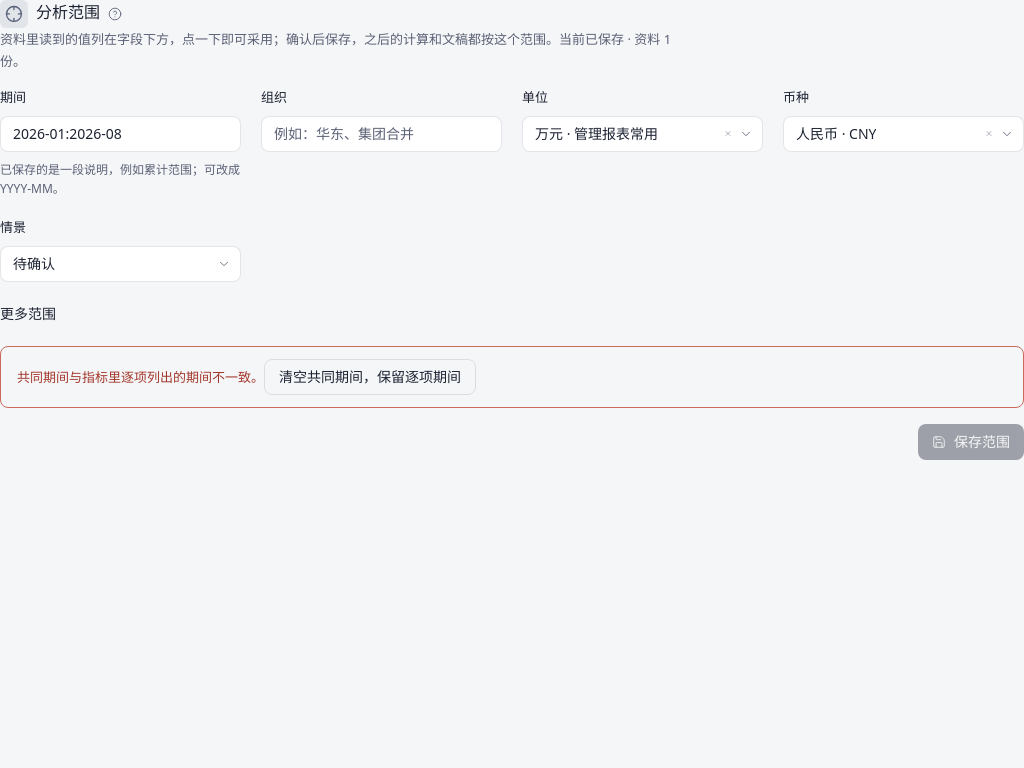
Test: business result components › resolves a legacy shared-period conflict explicitly while preserving item periods and bindings
Expected: the field showing "2026-01:2026-08" is shown, [0,116,241,152]
Click the button with aria-label "分析范围单位". click: (642, 134)
box: [522,116,763,152]
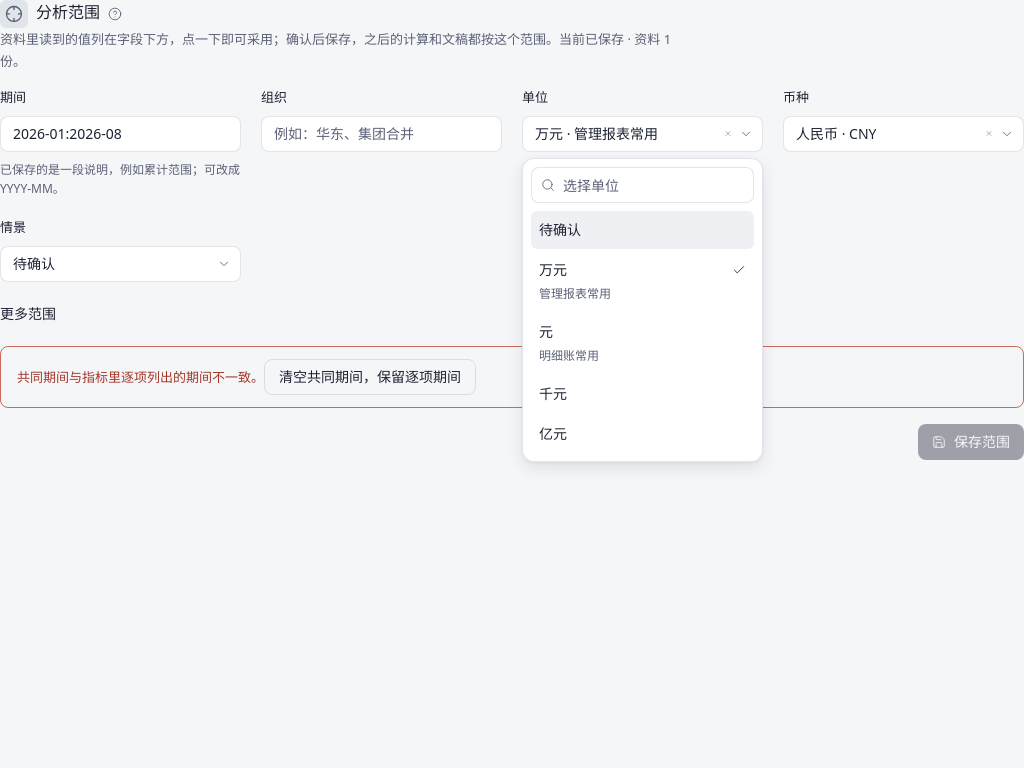
Click the option "元 明细账常用". click: (569, 356)
box: [539,322,599,364]
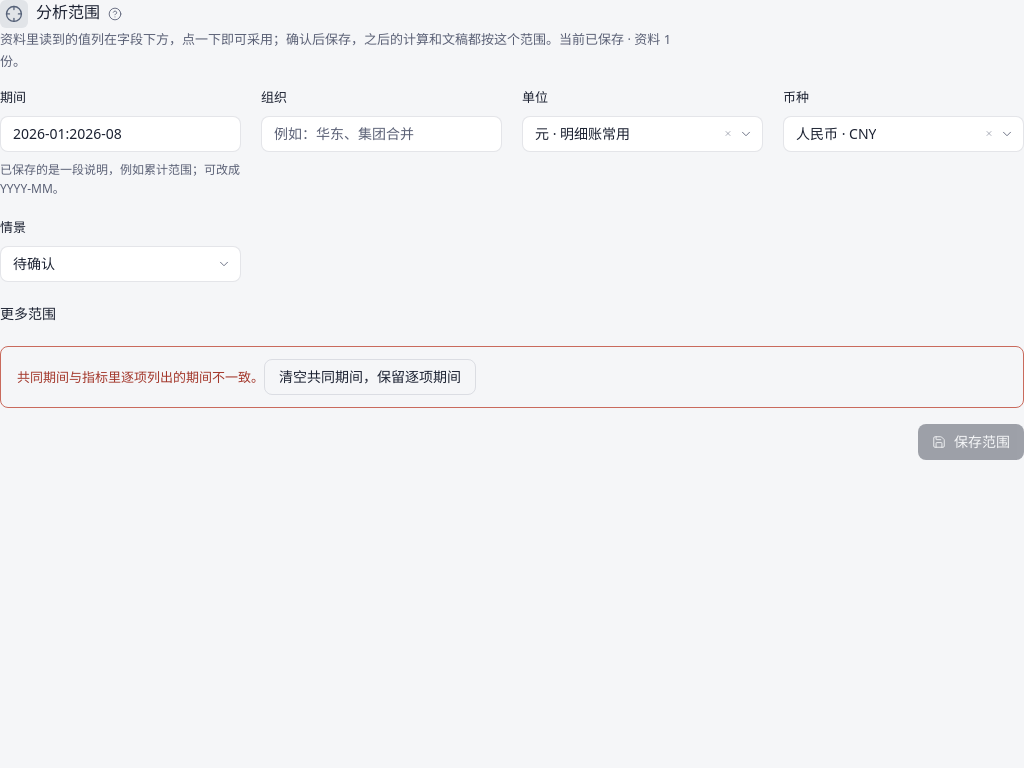
Expected: the button "保存范围" is disabled, [918,424,1023,460]
Expected: the message shows "逐项期间", [0,346,1023,408]
Click the button "清空共同期间，保留逐项期间". click: (370, 377)
box: [264,359,476,395]
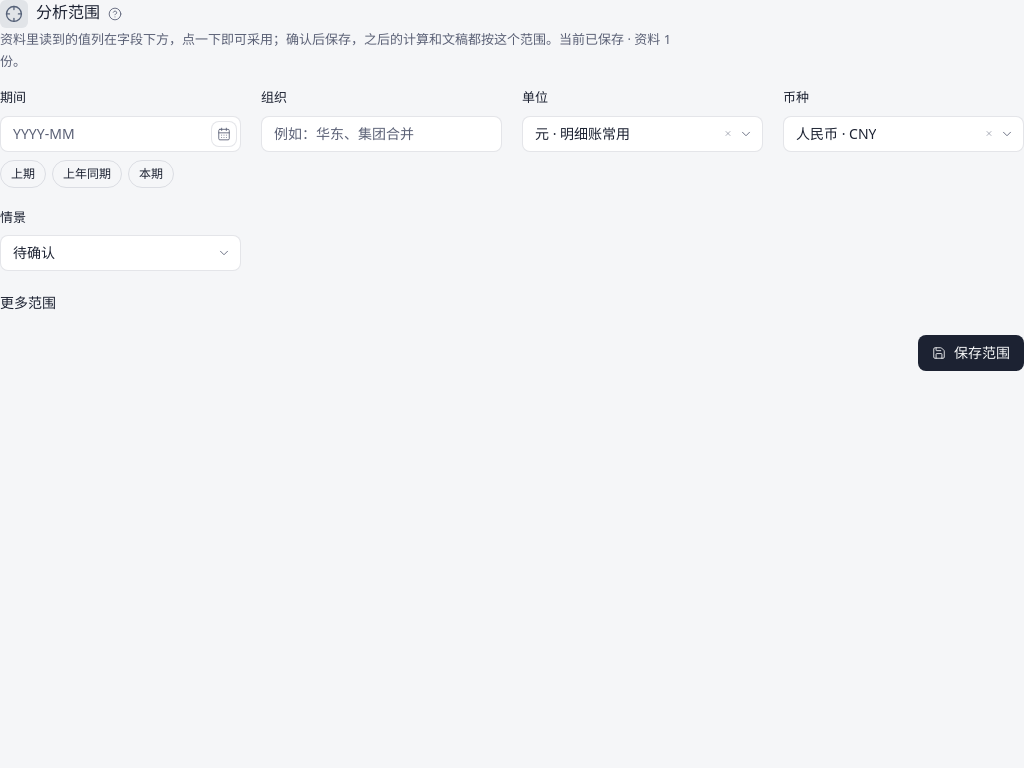
Expected: the field named "分析范围期间" is empty, [0,116,241,152]
Click the button "保存范围". click: (971, 353)
box: [918,335,1023,371]
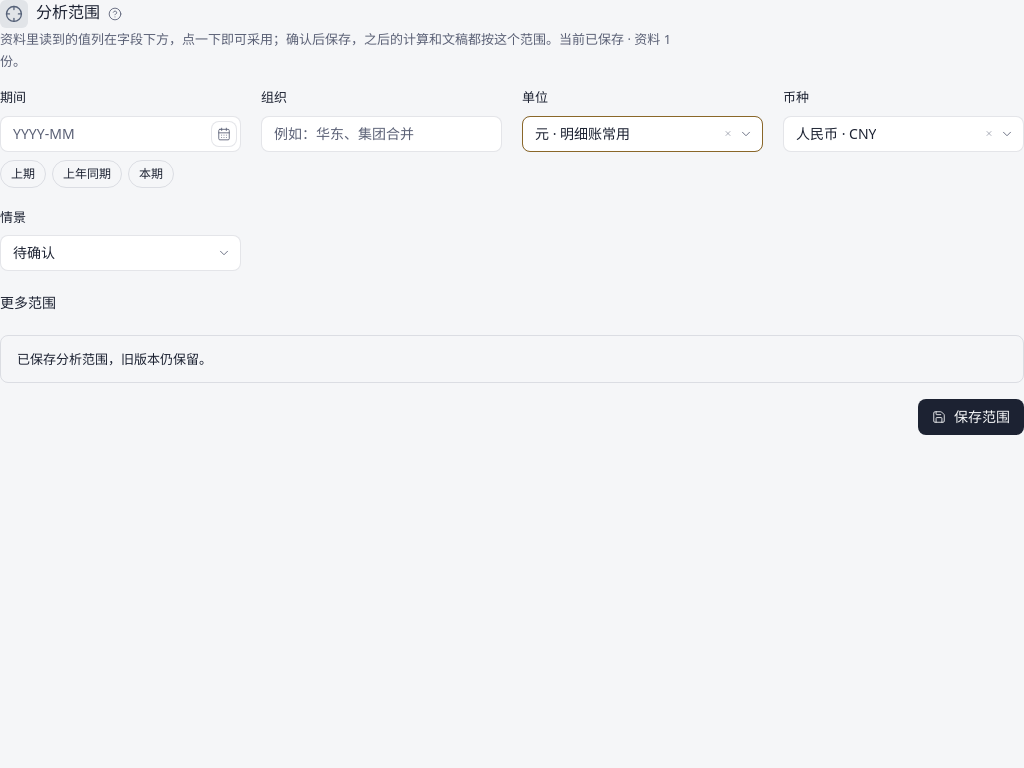
Expected: the text "已保存分析范围，旧版本仍保留。" is shown, [0,335,1023,383]
